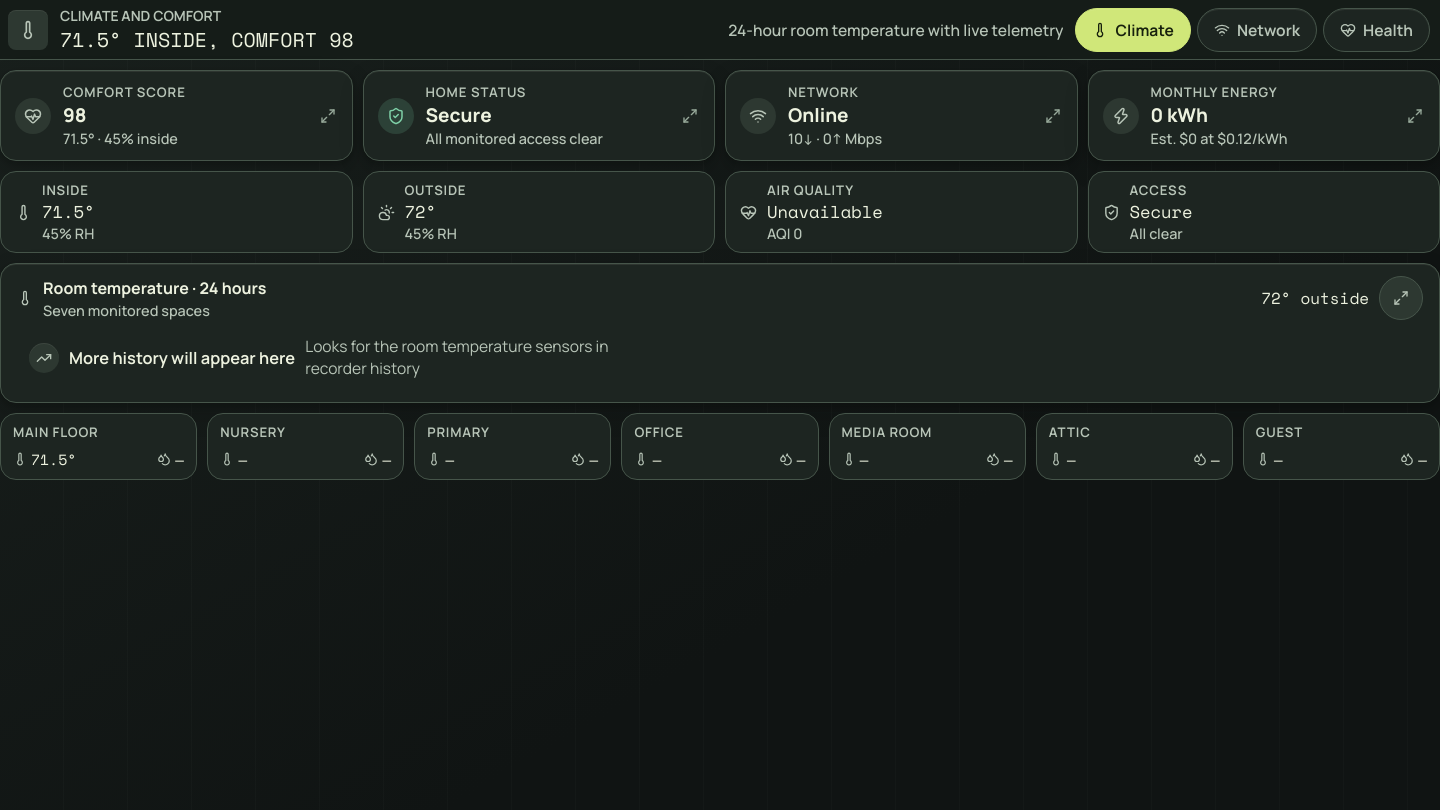
InsightsView › opens the explanation sheet as a modal dialog
This screenshot has width=1440, height=810.
Click the button with aria-label "Explain Comfort score".
click(33, 116)  # box [0,70,352,161]
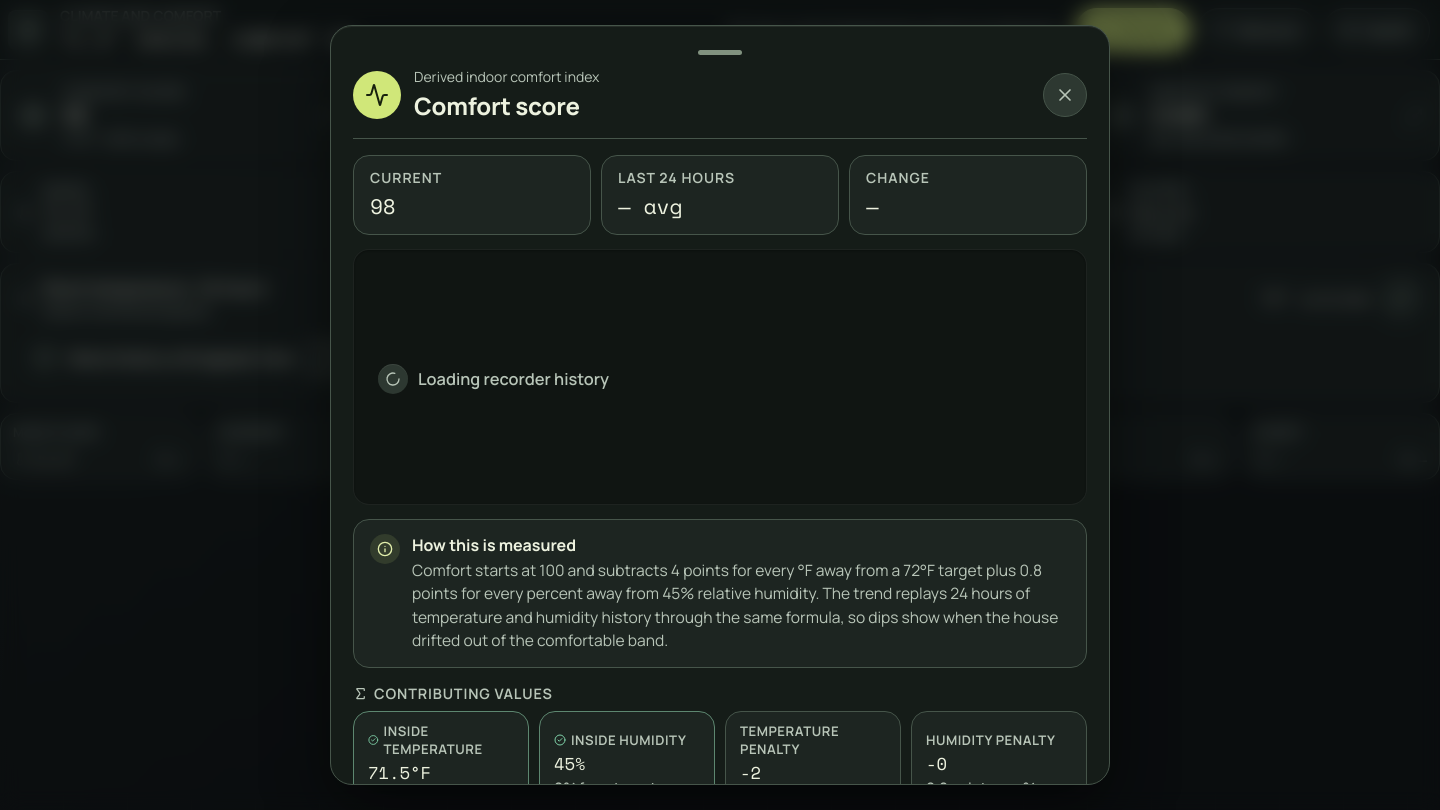
Press Escape
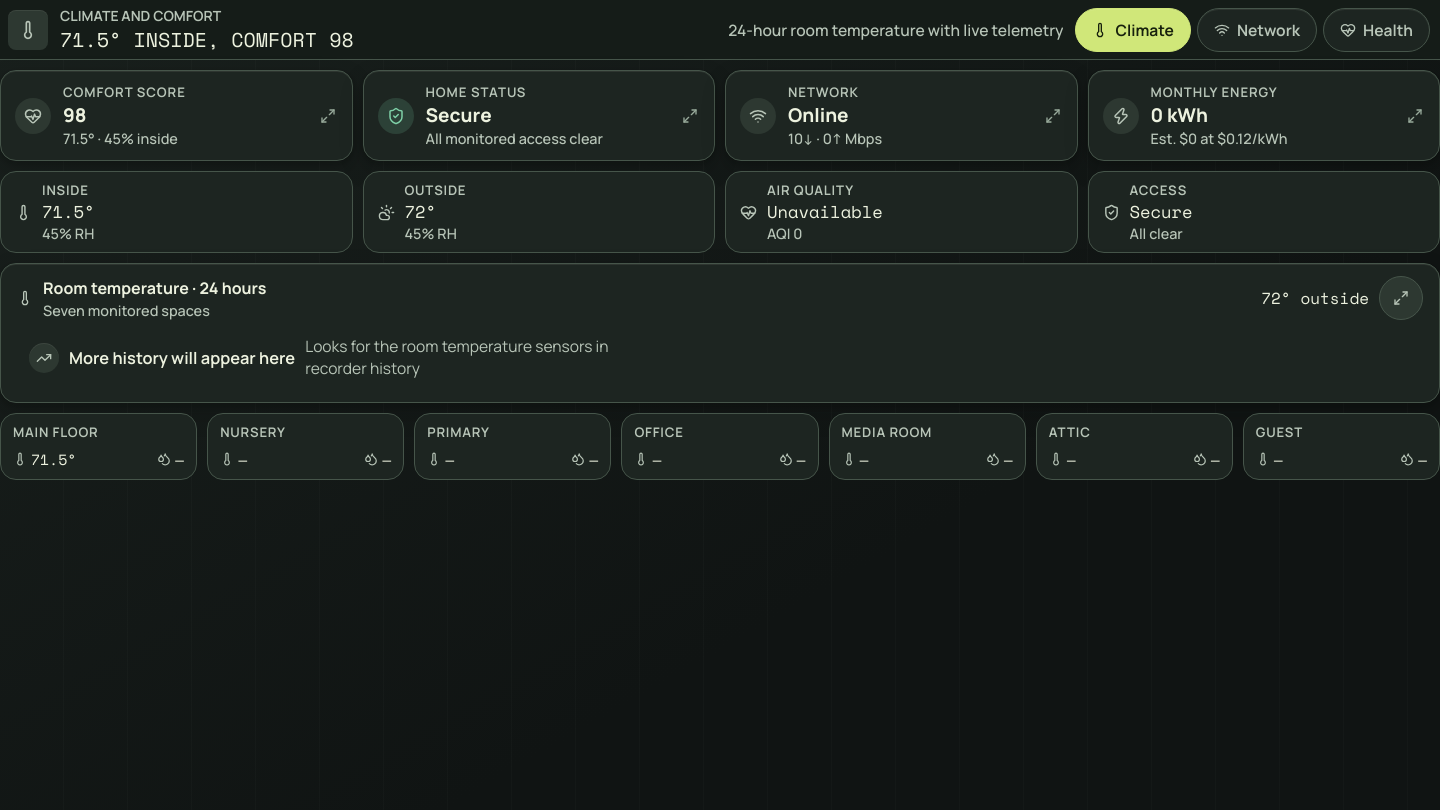
Expected: the dialog is gone
